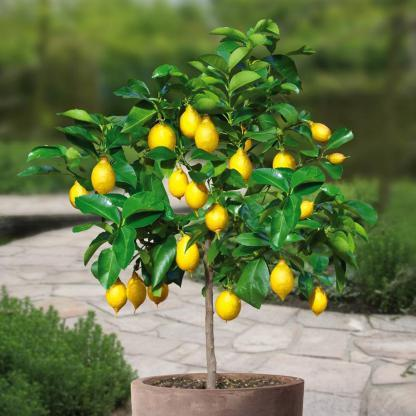lemon: (270, 259, 294, 301), (175, 235, 200, 273), (91, 157, 115, 194), (148, 122, 177, 152), (195, 117, 219, 153), (228, 148, 252, 181), (215, 290, 241, 320), (125, 273, 146, 309), (205, 202, 229, 233), (180, 104, 201, 139), (105, 280, 127, 313), (186, 180, 209, 211), (168, 166, 188, 200), (309, 286, 328, 316), (307, 121, 331, 142), (69, 180, 87, 208), (273, 151, 297, 171), (148, 282, 168, 304), (300, 195, 314, 219), (326, 152, 347, 164)
